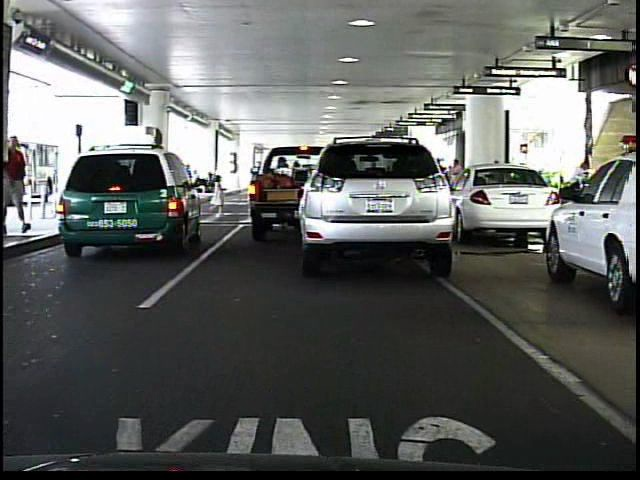person: (8, 133, 35, 241), (207, 169, 235, 223), (450, 156, 464, 179)
